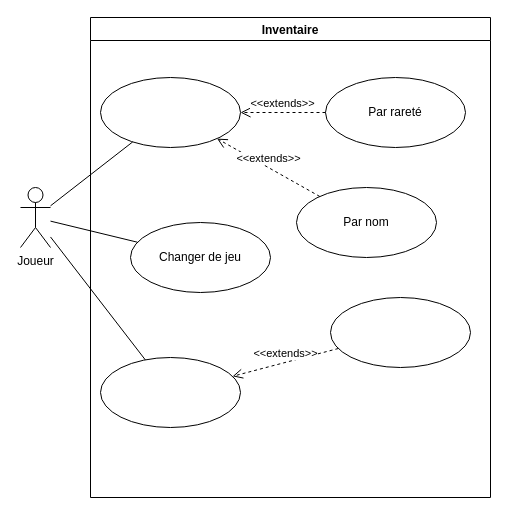
Image size: 508x515. Some labels were removed from this diagram. Each missing label, with the box of its shape:
Améliorer un personnages: (330, 296, 470, 368)
Rechercher un personnage: (100, 76, 240, 148)
Regarder les caractéristiques d'un personnage: (100, 356, 240, 428)
